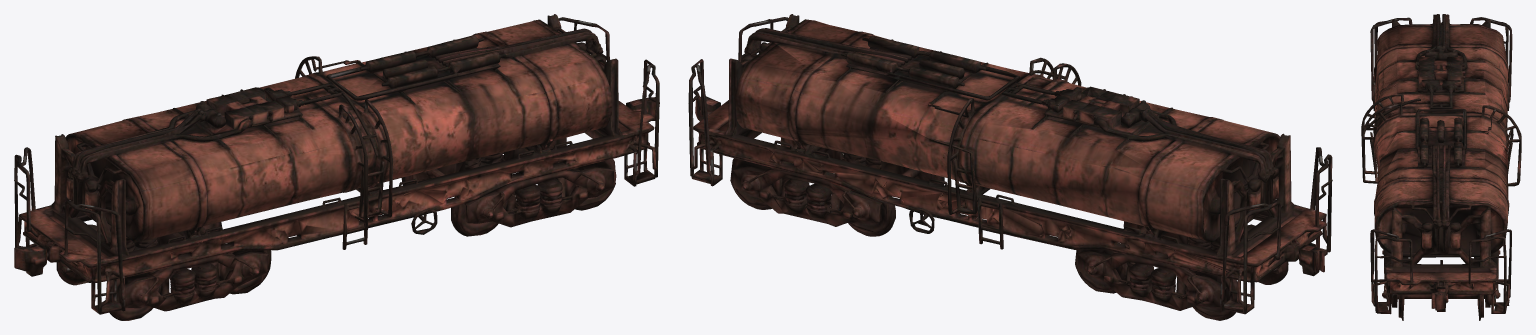
File: rail_tanker.glb
3 renders of one model, left to right at view 1: azimuth 30°, elevation 25°; view 2: azimuth 150°, elevation 25°; view 3: azimuth 270°, elevation 25°, orthographic. The views are drawn at different scales.
Parts seen in each view (by area): view 1: rail_tanker; view 2: rail_tanker; view 3: rail_tanker.
Part boxes in pixels (box(x1,y1,x2,y2)): rail_tanker: box(14, 14, 659, 320); rail_tanker: box(688, 14, 1332, 320); rail_tanker: box(1361, 14, 1521, 320).
Size of the model in its own units: 190 by 48.63 by 53.02.
1 material, 1 textured.
